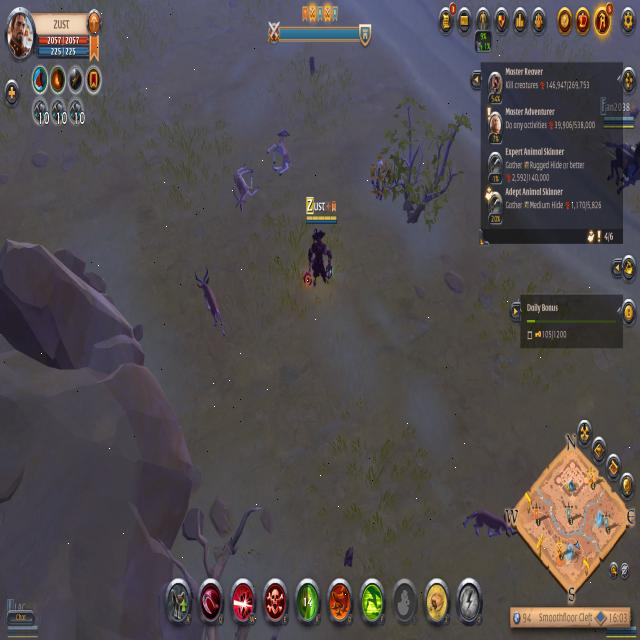deer_alive: (191, 264, 233, 344)
deer_dead: (264, 125, 298, 179), (225, 166, 262, 213)
